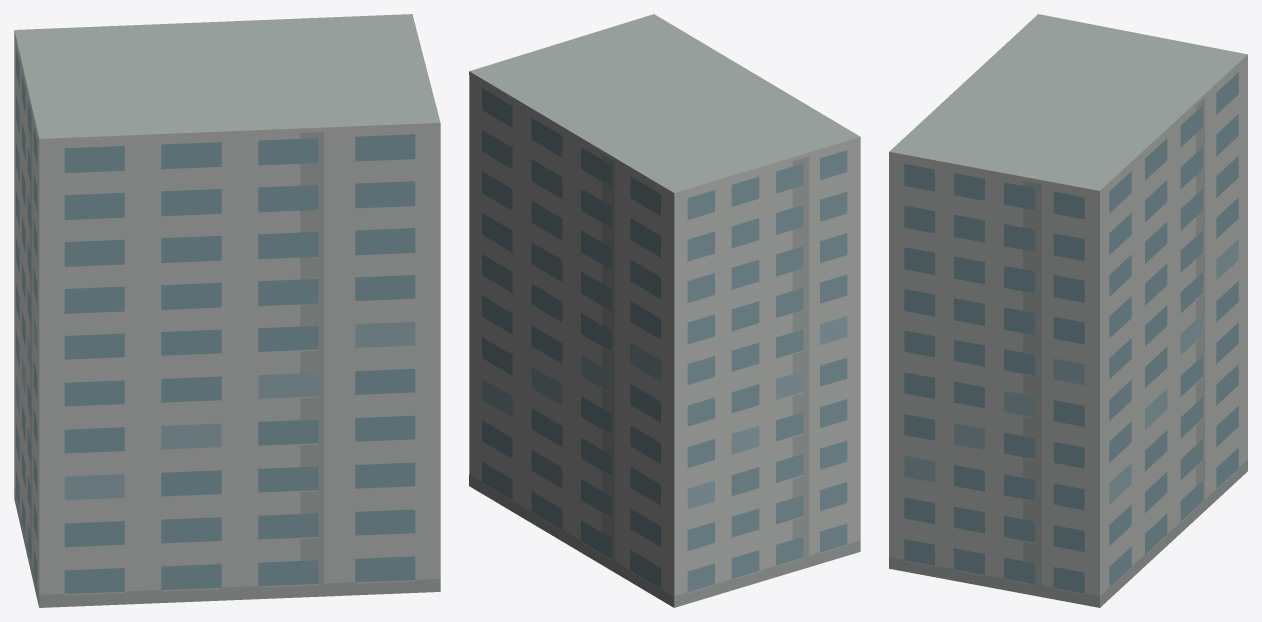
Rendered from residential-2e28df9e-afa0-482f-985b-afa6f4ee337f.glb.
3 views of the same model, side by side, from view 1: azimuth 30°, elevation 25°; view 2: azimuth 150°, elevation 25°; view 3: azimuth 270°, elevation 25° (orthographic). The views are drawn at different scales.
Visible parts, largest first — view 1: residential-2e28df9e-afa0-482f-985b-afa6f4ee337f.tmp; view 2: residential-2e28df9e-afa0-482f-985b-afa6f4ee337f.tmp; view 3: residential-2e28df9e-afa0-482f-985b-afa6f4ee337f.tmp.
Boxes of the visible parts, x1,y1,x2,y2 form: residential-2e28df9e-afa0-482f-985b-afa6f4ee337f.tmp: [14, 14, 440, 607]; residential-2e28df9e-afa0-482f-985b-afa6f4ee337f.tmp: [469, 14, 860, 607]; residential-2e28df9e-afa0-482f-985b-afa6f4ee337f.tmp: [889, 14, 1247, 607].
Size of the model in its own units: 23.68 by 26 by 20.28.
